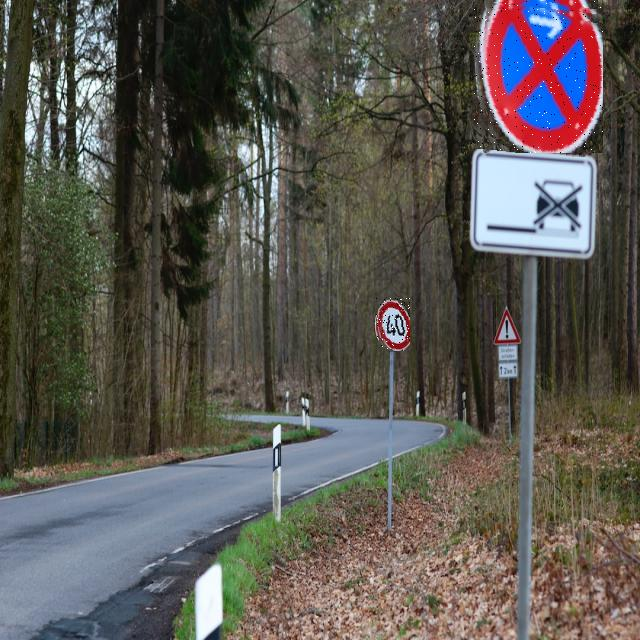no stopping: (470, 0, 603, 153)
speed limit 40: (375, 298, 410, 351)
